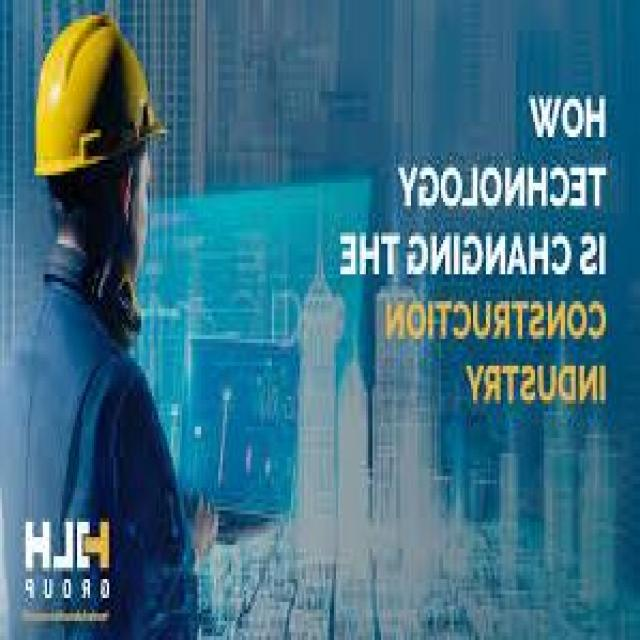Safety-Helmet: (28, 8, 167, 186)
